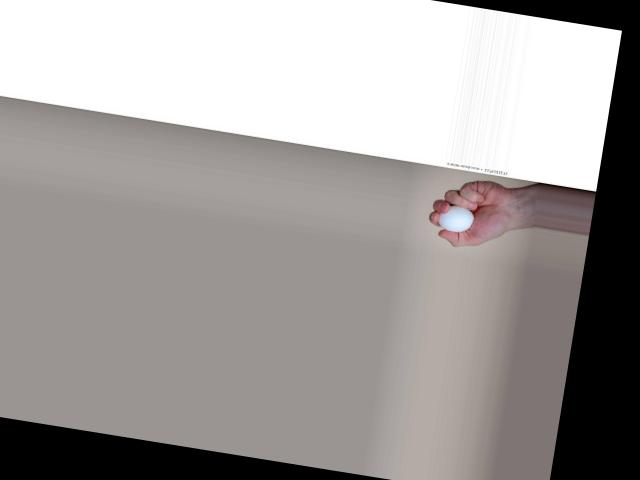egg: (437, 203, 476, 234)
